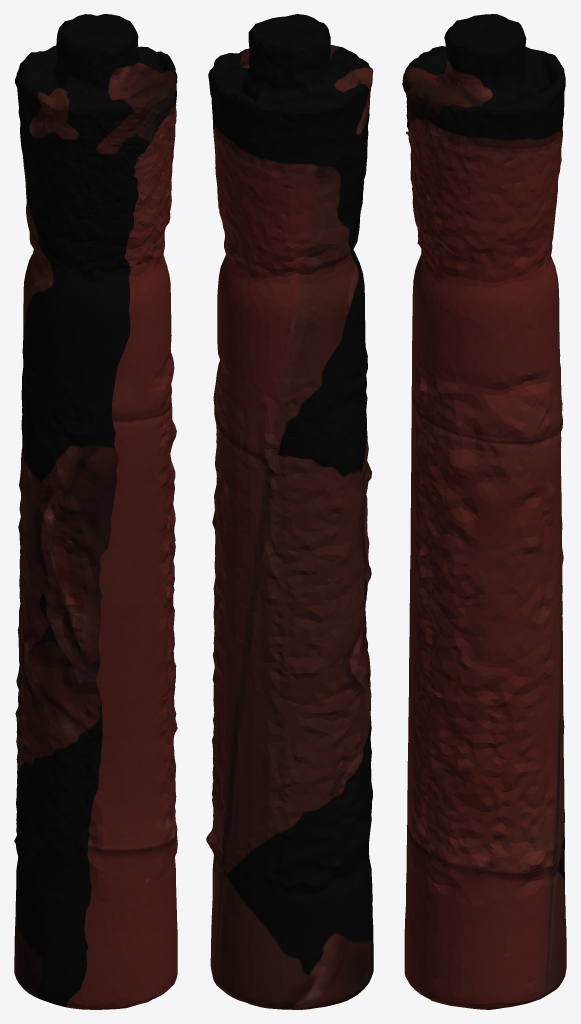
The picture shows the model from 3 angles, left to right: view 1: azimuth 30°, elevation 25°; view 2: azimuth 150°, elevation 25°; view 3: azimuth 270°, elevation 25°; orthographic projection.
Bounding box in the file's own units: 0.0192 × 0.1209 × 0.0189.
